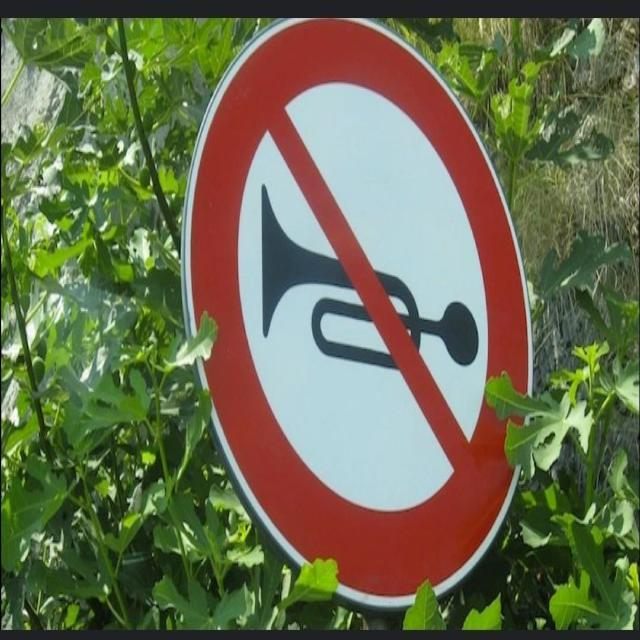horn prohibited: (192, 22, 544, 609)
